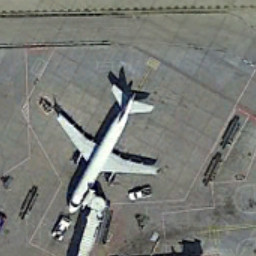Airplane: (36, 71, 171, 222)
